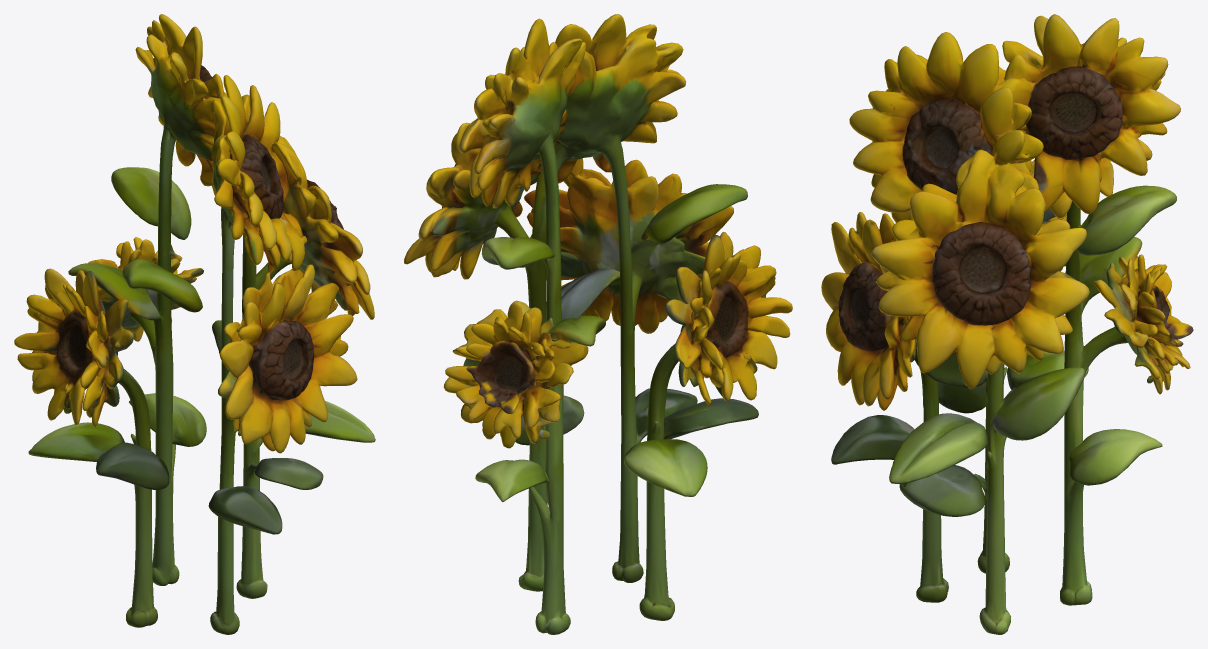
Rendered from nature-flower-sunflower.glb.
3 renders of one model, left to right at view 1: azimuth 30°, elevation 25°; view 2: azimuth 150°, elevation 25°; view 3: azimuth 270°, elevation 25°, orthographic. The views are drawn at different scales.
Parts seen in each view (by area): view 1: tripo_node_85ba2bb0-99ea-43fc-bd88-8f2ceea02bef; view 2: tripo_node_85ba2bb0-99ea-43fc-bd88-8f2ceea02bef; view 3: tripo_node_85ba2bb0-99ea-43fc-bd88-8f2ceea02bef.
Part boxes in pixels (bbox=[...]): tripo_node_85ba2bb0-99ea-43fc-bd88-8f2ceea02bef: bbox=[14, 14, 375, 634]; tripo_node_85ba2bb0-99ea-43fc-bd88-8f2ceea02bef: bbox=[404, 14, 792, 634]; tripo_node_85ba2bb0-99ea-43fc-bd88-8f2ceea02bef: bbox=[821, 14, 1193, 634].
Size of the model in its own units: 1.12 by 2 by 1.12.
1 material, 1 textured.
